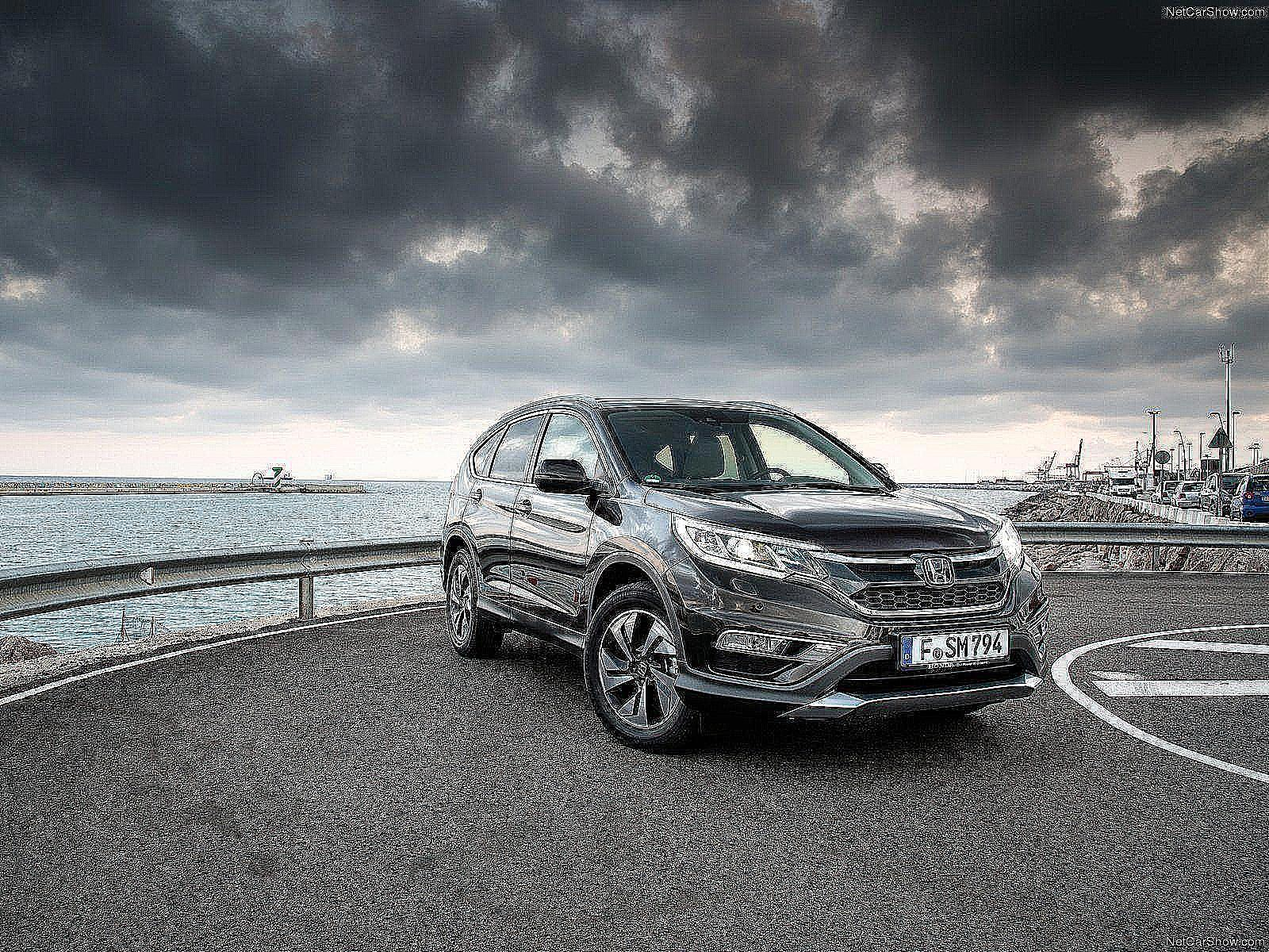Car hood: (643, 481, 1007, 553)
Driver-s door - -F-R-: (508, 396, 600, 650)
Fender - -F-R-: (581, 474, 697, 633)
Fender - -R-R-: (433, 439, 487, 559)
Front bumper: (662, 554, 1058, 718)
Headlight - -L-: (990, 517, 1025, 574)
Headlight - -R-: (670, 513, 829, 580)
Passenger-s door - -R-R-: (462, 396, 552, 626)
Rear bumper: (431, 524, 459, 599)
Side bumper - -R-: (470, 591, 591, 660)
Side mirror - -R-: (535, 459, 612, 500)
